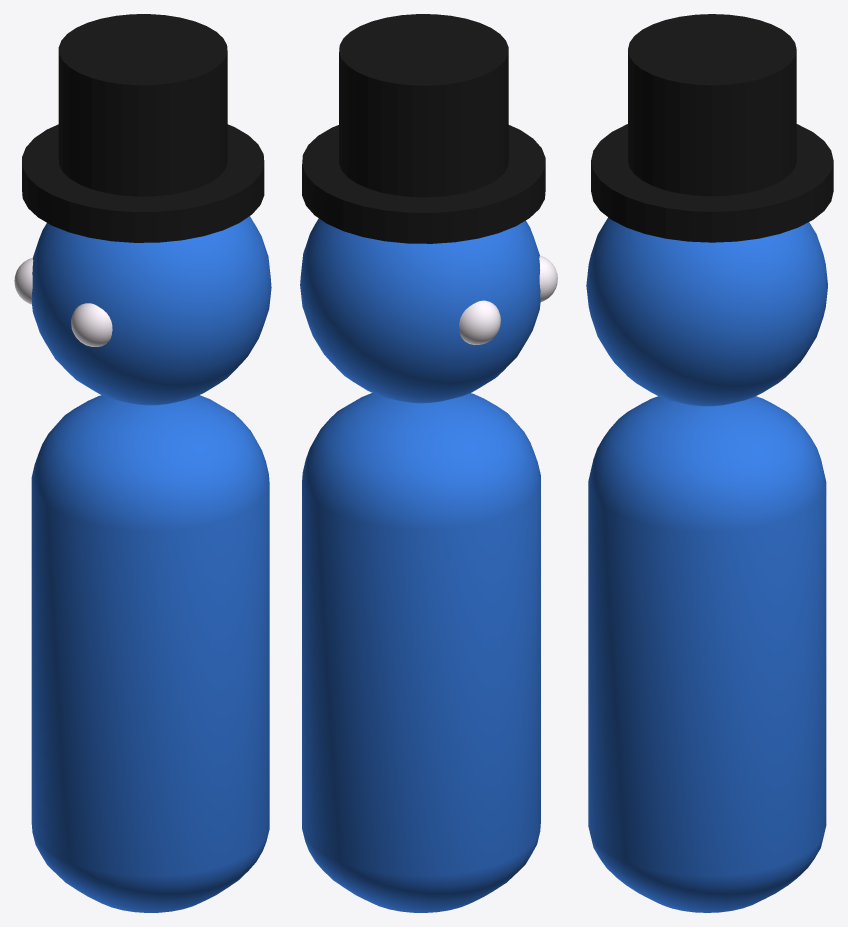
The model's file is personHat.fbx.
3 views of the same model, side by side, from view 1: azimuth 30°, elevation 25°; view 2: azimuth 150°, elevation 25°; view 3: azimuth 270°, elevation 25° (orthographic).
Parts seen in each view (by area): view 1: Cylinder.003; view 2: Cylinder.003; view 3: Cylinder.003.
Boxes of the visible parts, left/top/right/bottom form: Cylinder.003: left=14, top=14, right=271, bottom=912; Cylinder.003: left=300, top=14, right=557, bottom=912; Cylinder.003: left=586, top=14, right=833, bottom=912.
Size of the model in its own units: 55.88 by 211 by 55.73.
